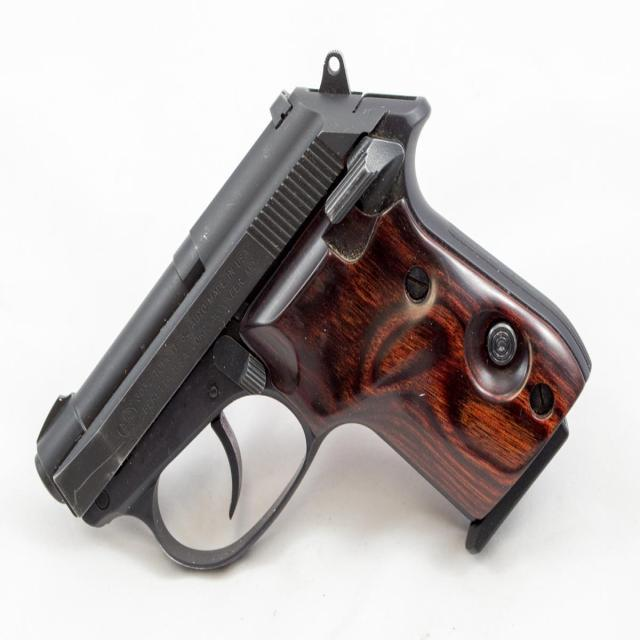Pistol: (29, 36, 620, 590)
